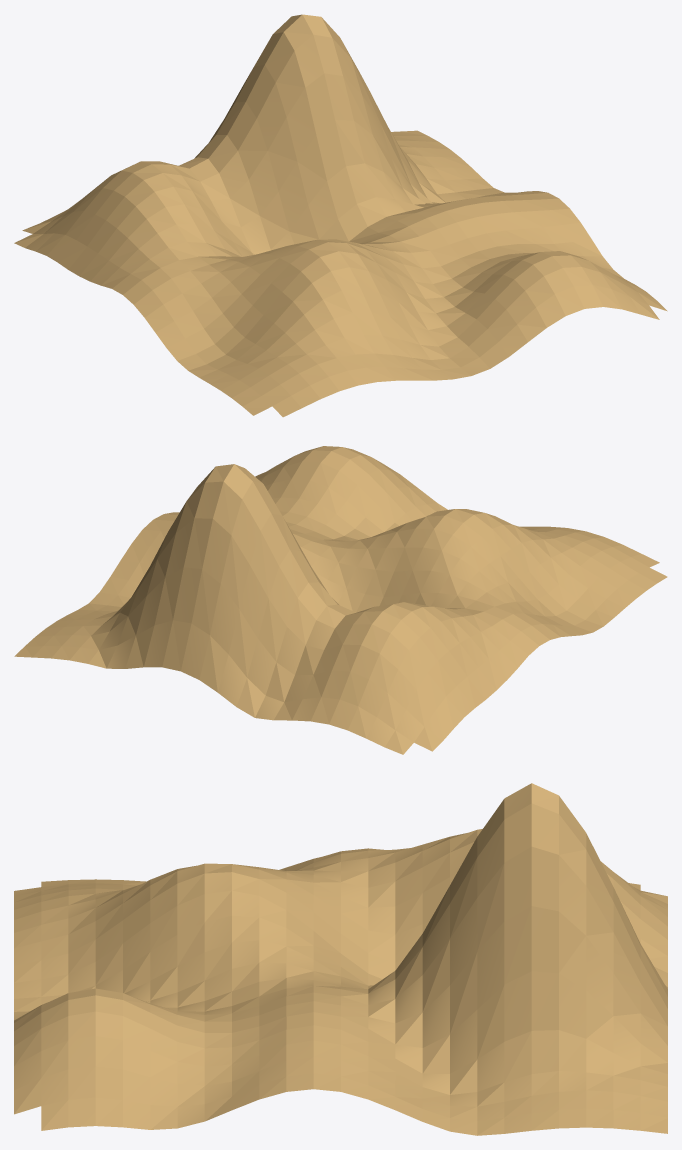
Rendered from sand.fbx.
3 renders of one model, top to bottom at view 1: azimuth 30°, elevation 25°; view 2: azimuth 150°, elevation 25°; view 3: azimuth 270°, elevation 25°, orthographic. The views are drawn at different scales.
Parts seen in each view (by area): view 1: Group2; view 2: Group2; view 3: Group2.
Part boxes in pixels (x1=…): Group2: x1=14, y1=14, x2=667, y2=417; Group2: x1=14, y1=446, x2=667, y2=754; Group2: x1=14, y1=783, x2=667, y2=1135.
Bounding box in the file's own units: 33000 × 15294 × 36000.
